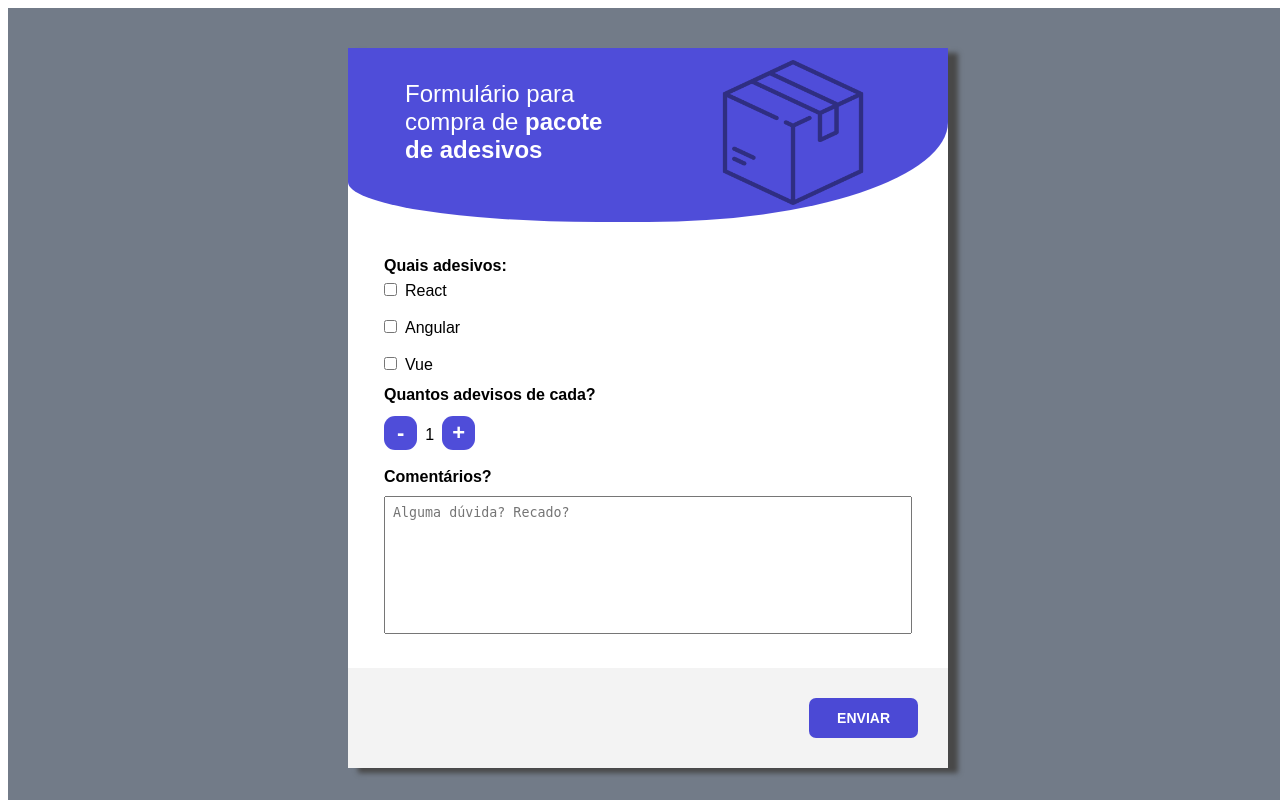
Scenario: <Home /> › Should control tag quantify
This screenshot has width=1280, height=800.
Expected: the text named "quantify" reads "1", [425,426,434,442]
Click the button "-". click: (401, 432)
box: [384,416,417,450]
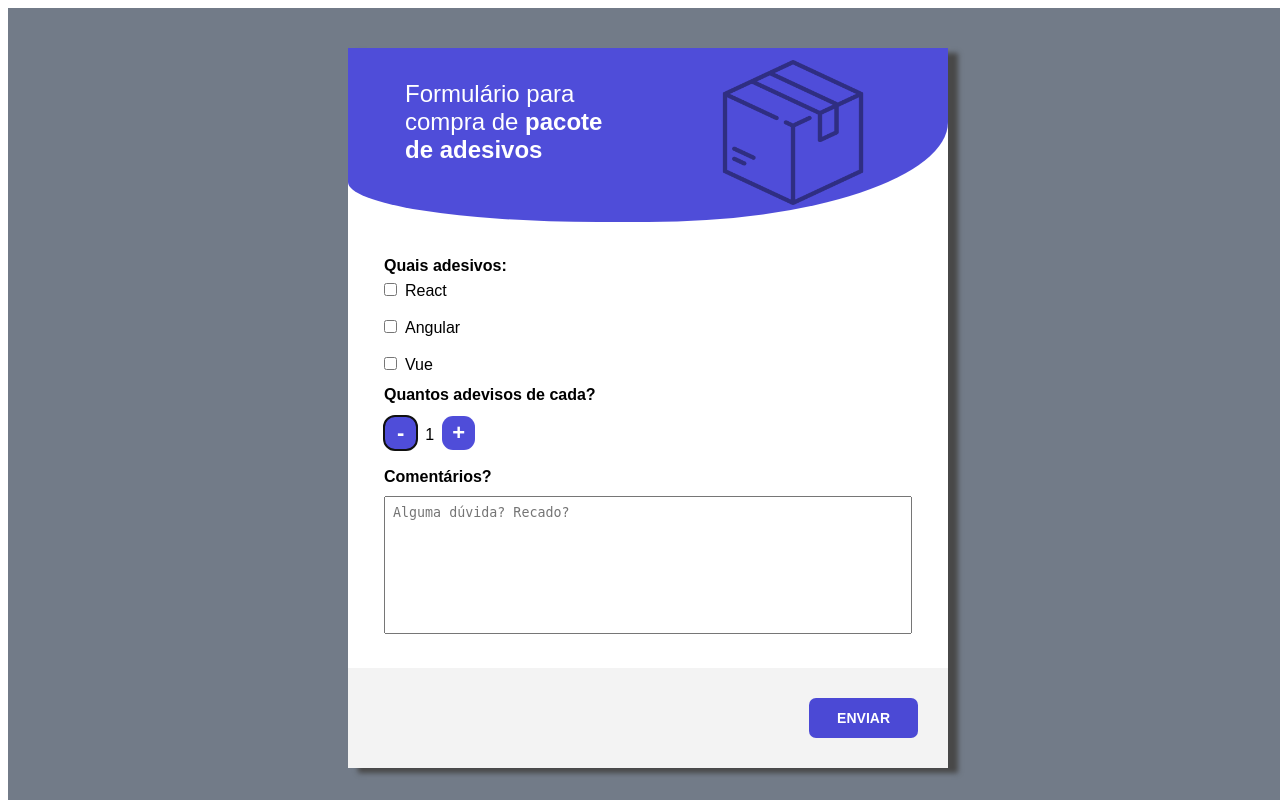
Expected: the text named "quantify" reads "1", [425,426,434,442]
Click the button "+". click: (459, 432)
box: [442,416,475,450]
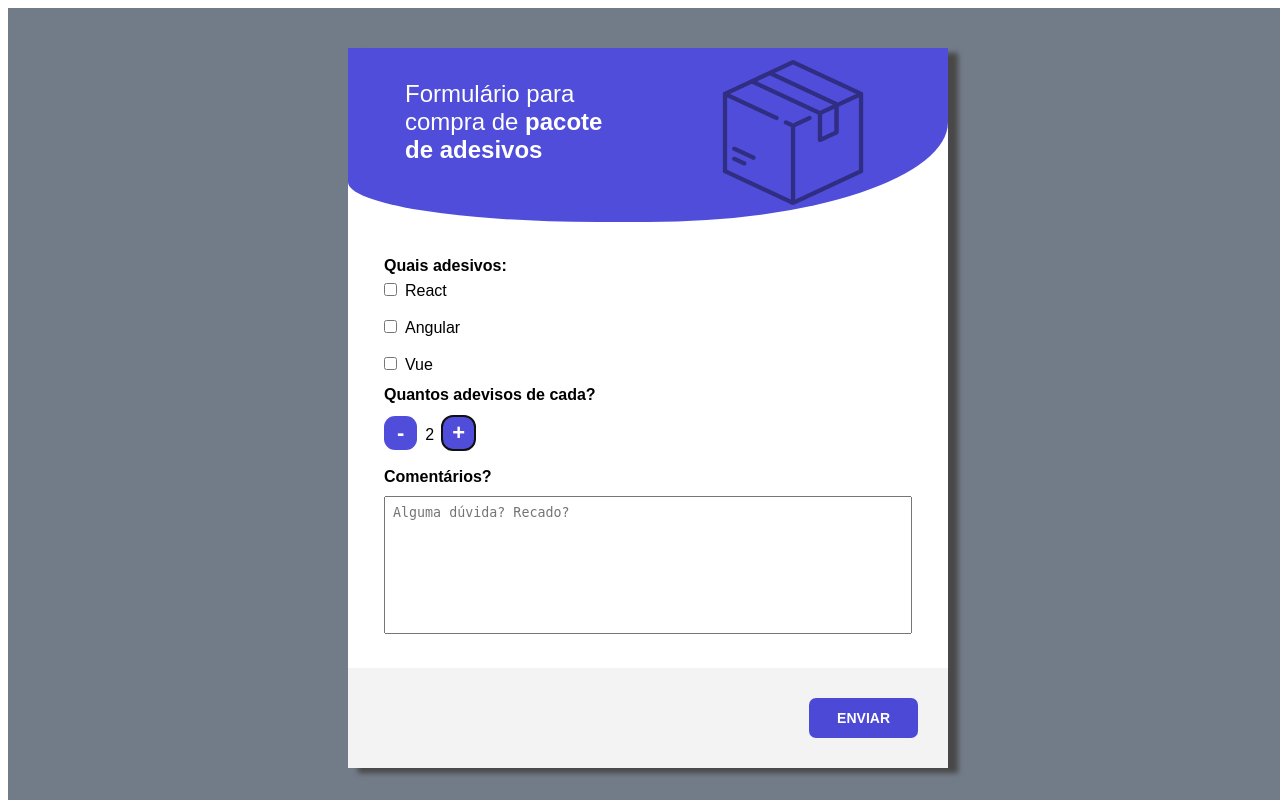
Now the text named "quantify" reads "2", box [425,426,434,442]
Click the button "+". click: (459, 432)
box: [442,416,475,450]
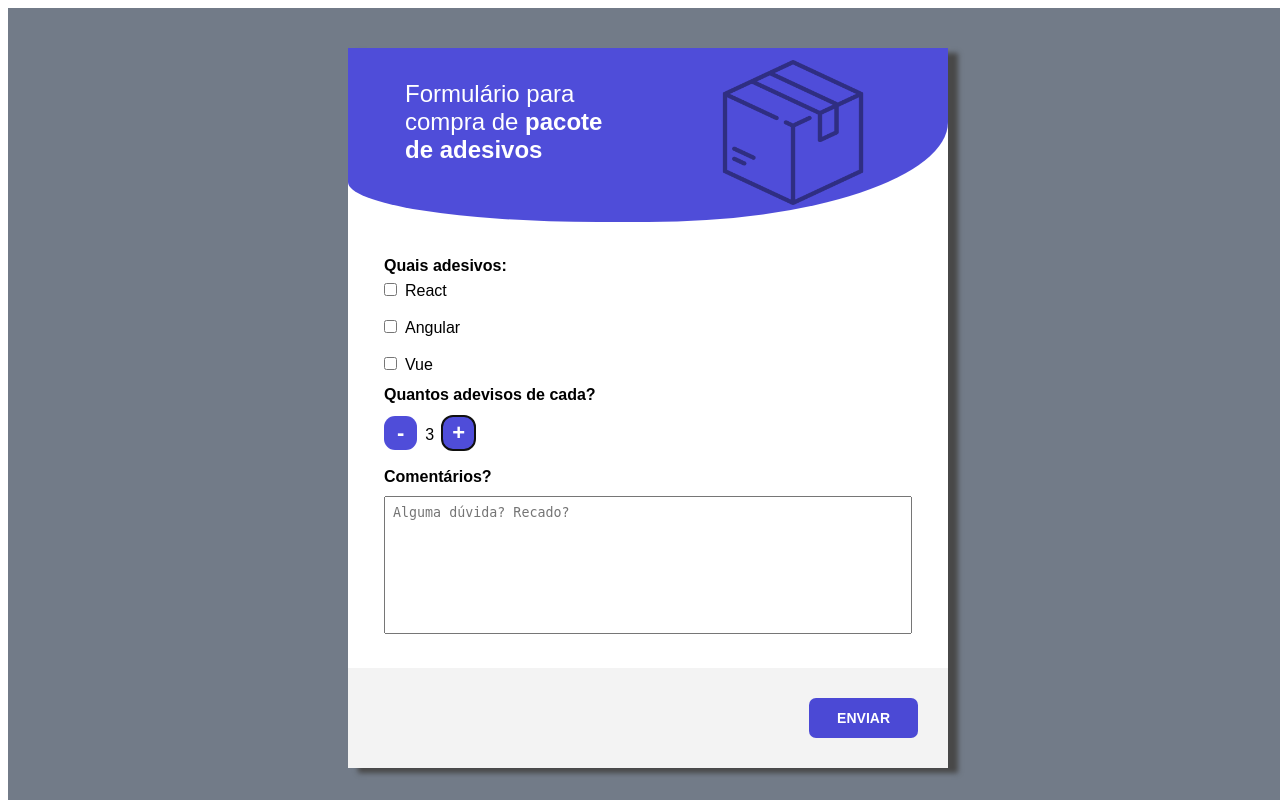
Click the button "+". click: (459, 432)
box: [442,416,475,450]
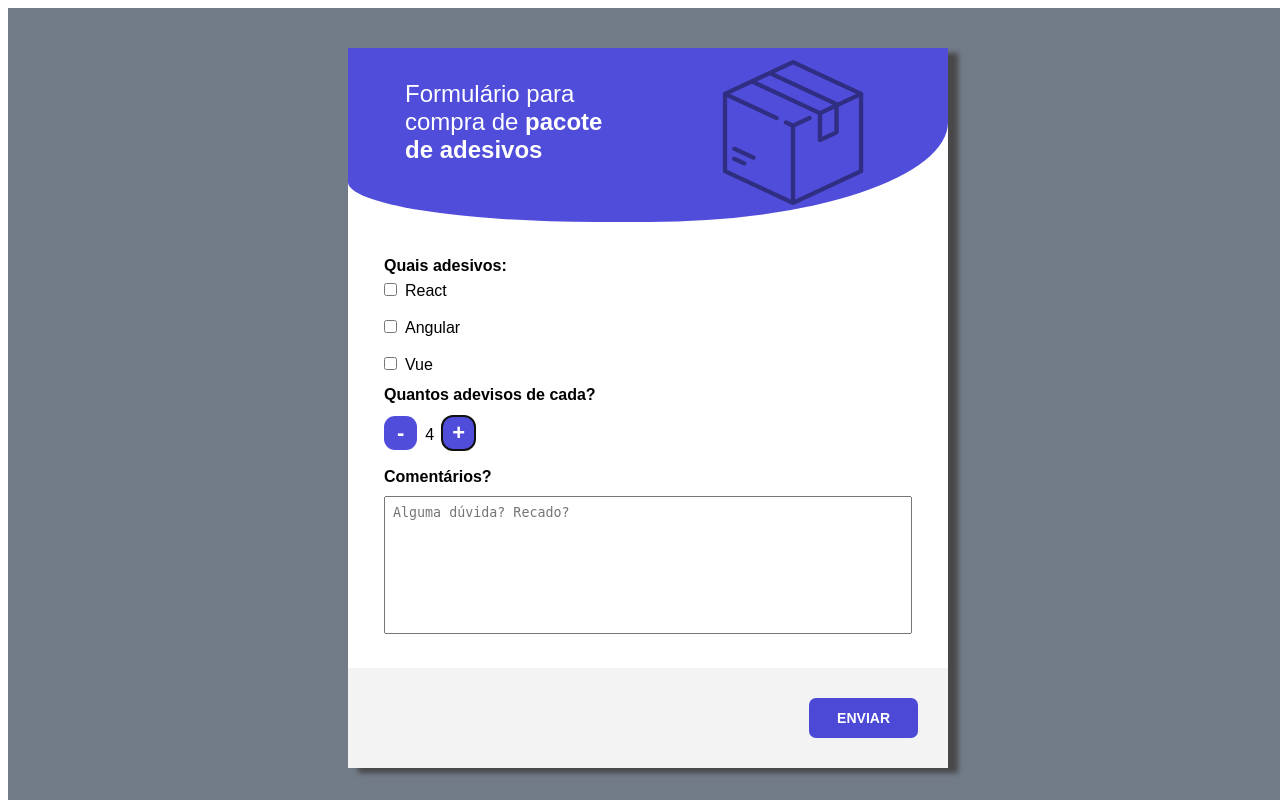
Click the button "-". click: (401, 432)
box: [384,416,417,450]
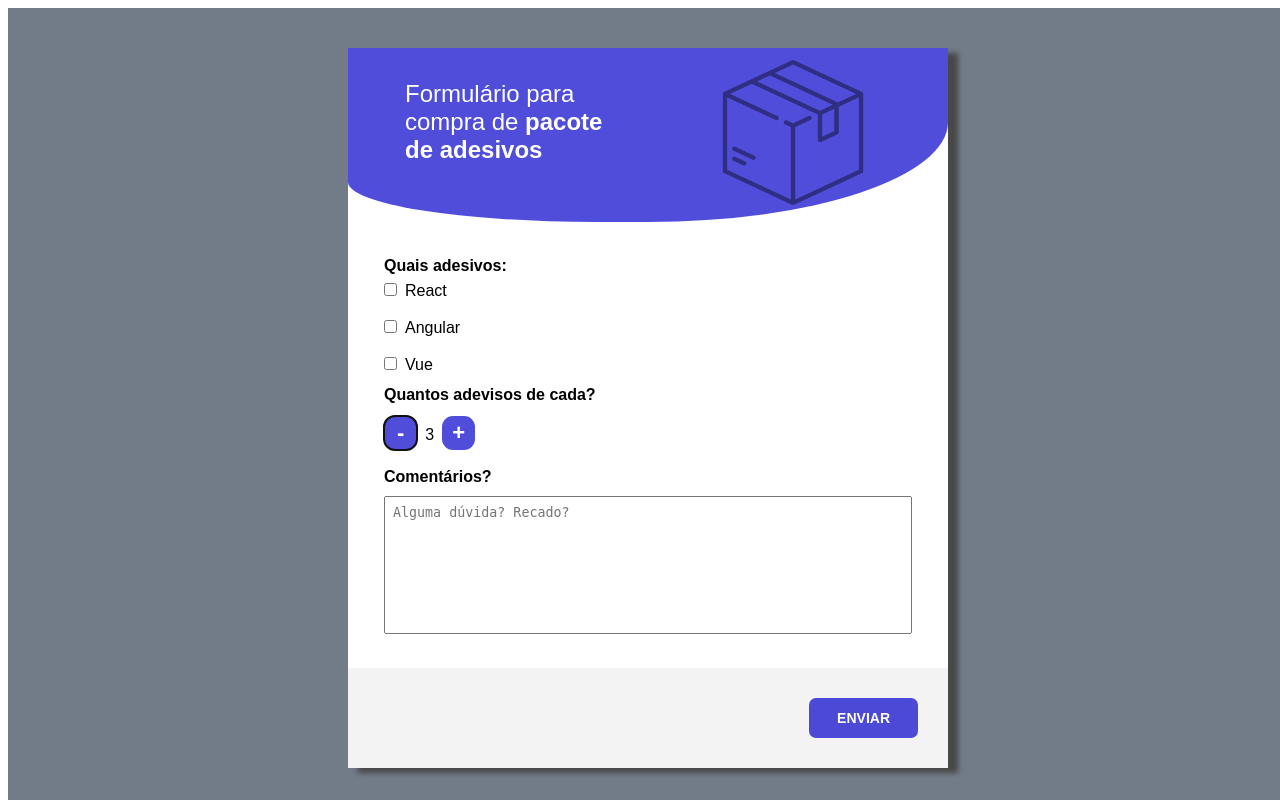
Now the text named "quantify" reads "3", box [425,426,434,442]
